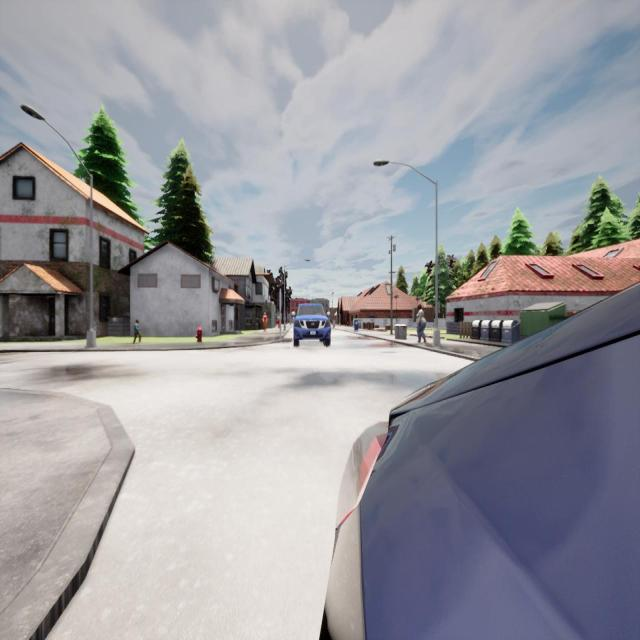Pedestrian: (415, 304, 427, 344), (133, 318, 141, 344), (262, 310, 269, 333), (276, 314, 280, 328)
Vehicle: (324, 283, 640, 638), (294, 303, 330, 346)
